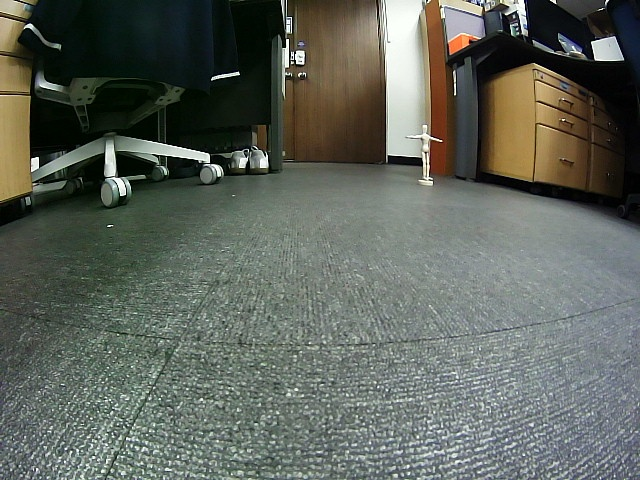person: (406, 125, 443, 181)
